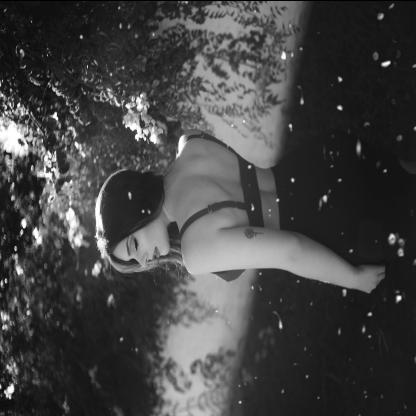Eye: (131, 236, 139, 250)
Mouth: (152, 245, 160, 260)
Nose: (134, 252, 148, 266)
